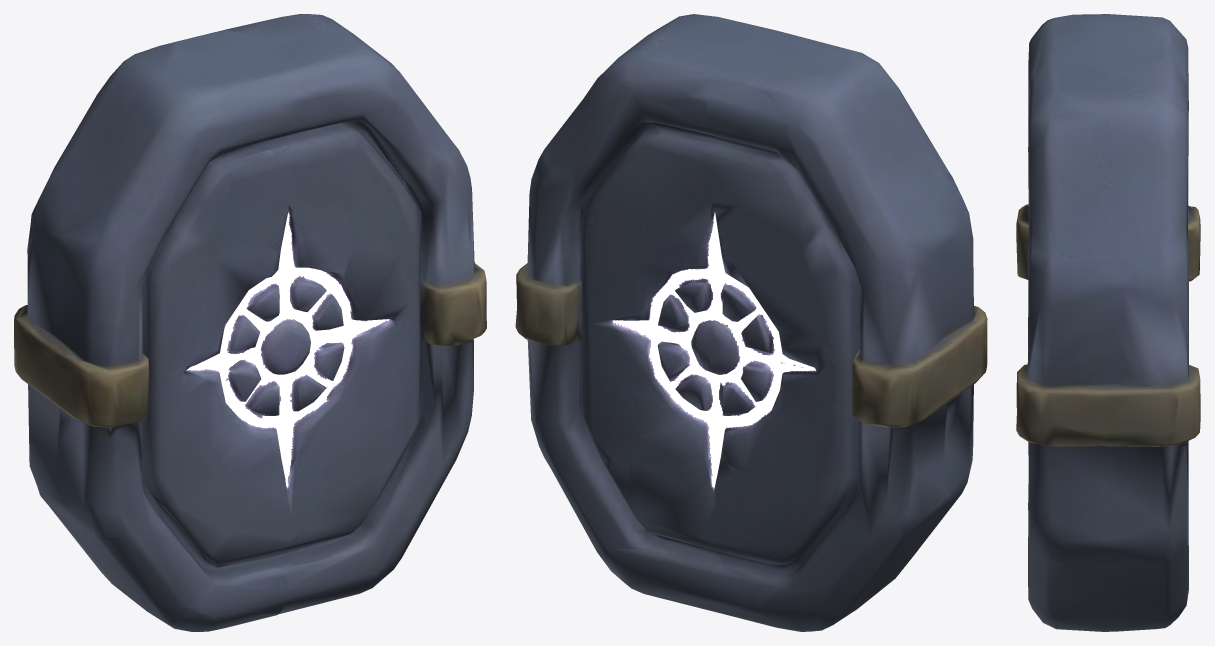
The model's file is loot_waystone-BpheppqG.glb.
3 renders of one model, left to right at view 1: azimuth 30°, elevation 25°; view 2: azimuth 150°, elevation 25°; view 3: azimuth 270°, elevation 25°, orthographic.
Parts seen in each view (by area): view 1: tripo_node_6f3454a0-5639-4149-bc74-97c1f4313d38; view 2: tripo_node_6f3454a0-5639-4149-bc74-97c1f4313d38; view 3: tripo_node_6f3454a0-5639-4149-bc74-97c1f4313d38.
Part boxes in pixels (x1,y1,x2,y2): tripo_node_6f3454a0-5639-4149-bc74-97c1f4313d38: (14, 14, 486, 631); tripo_node_6f3454a0-5639-4149-bc74-97c1f4313d38: (515, 14, 987, 631); tripo_node_6f3454a0-5639-4149-bc74-97c1f4313d38: (1016, 14, 1200, 631).
Bounding box in the file's own units: 0.7839 × 1 × 0.3146.
Materials: 1 (1 with a texture image).
